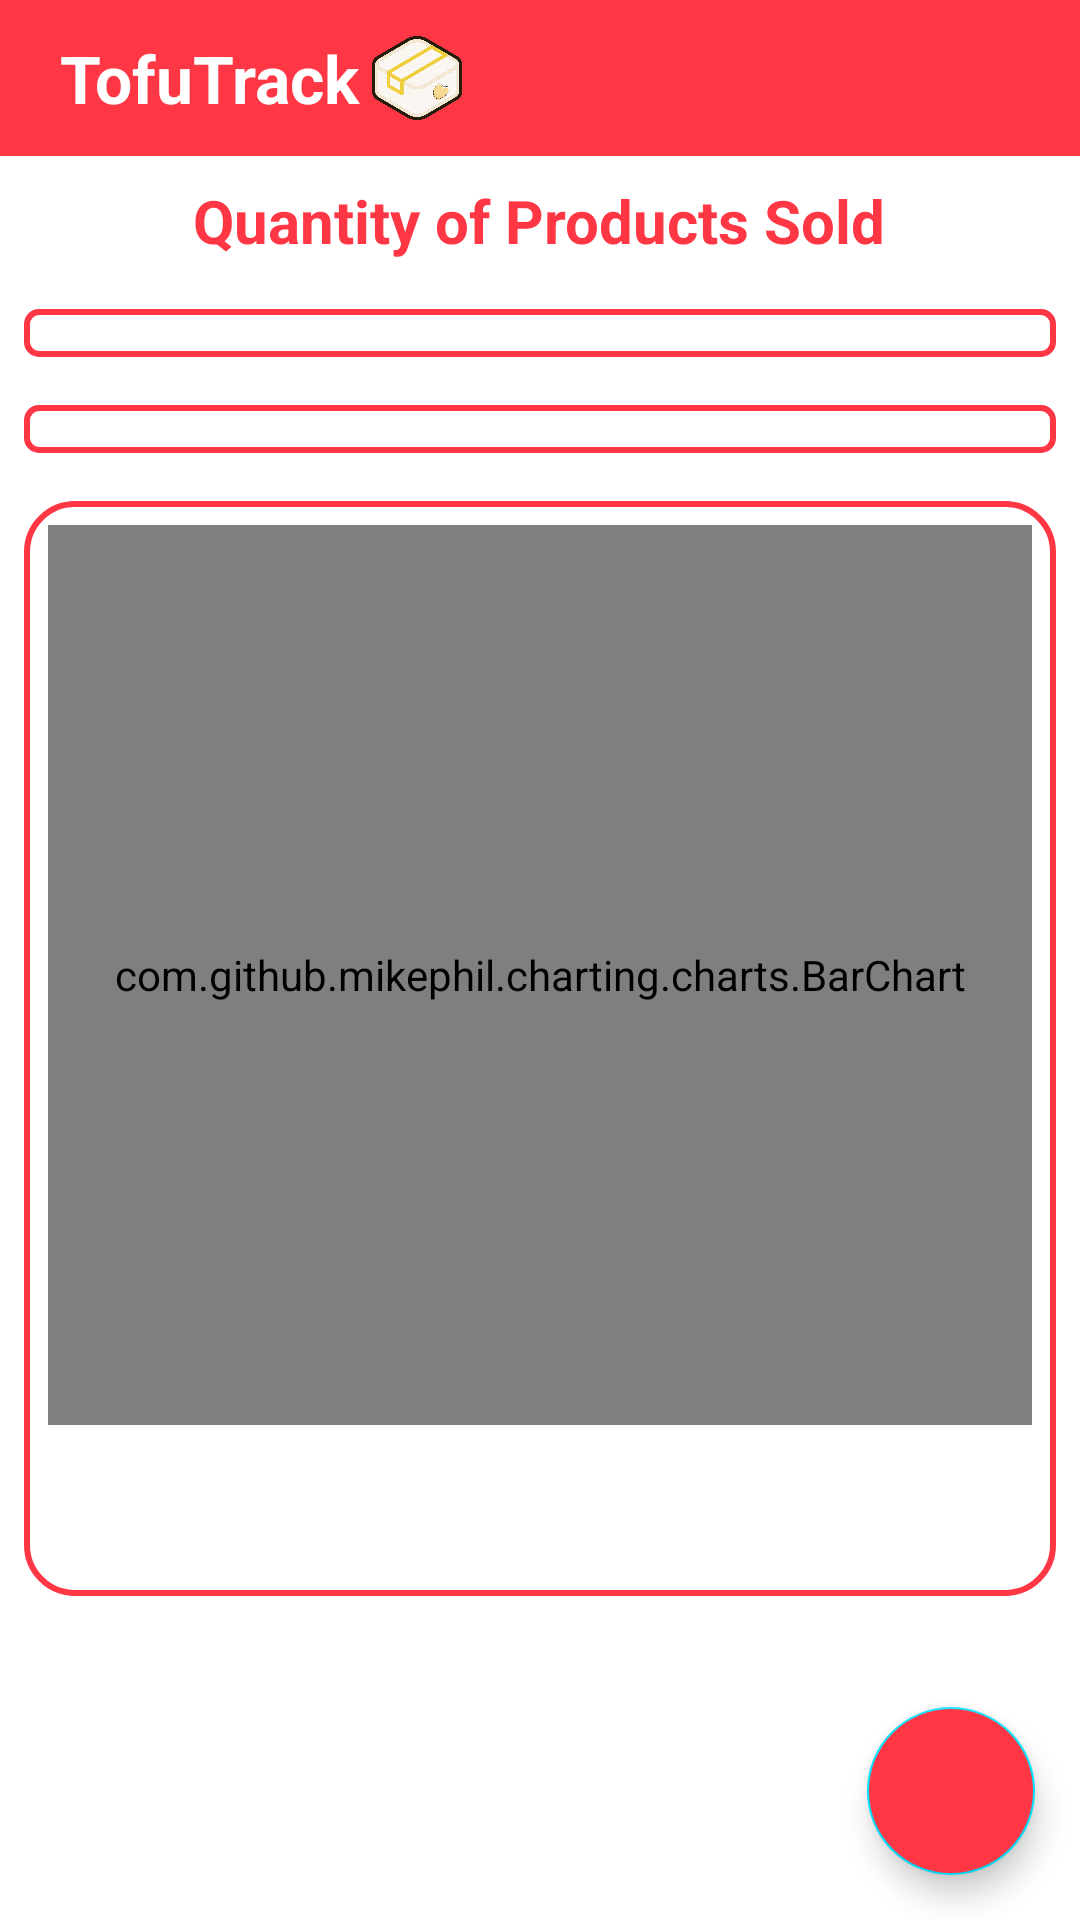

Where icons sit on this 1080 × 1920 app screen, as (x1, y1, x2, y2):
loogo: (372, 36, 462, 120)
